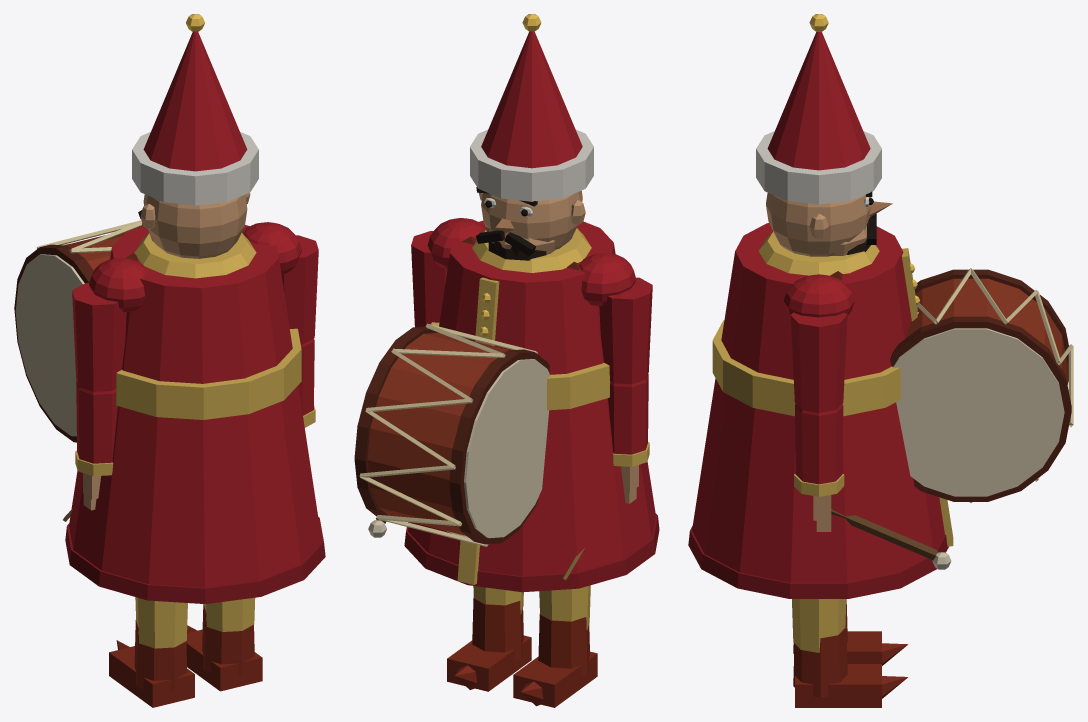
Rendered from mehter.glb.
3 views of the same model, side by side, from view 1: azimuth 30°, elevation 25°; view 2: azimuth 150°, elevation 25°; view 3: azimuth 270°, elevation 25° (orthographic). The views are drawn at different scales.
Parts seen in each view (by area): view 1: govde, bas, kolL, bacakL, bacakR, kolR; view 2: govde, bas, kolL, bacakL, bacakR, kolR; view 3: govde, bas, kolR, bacakR, bacakL.
Boxes of the visible parts, box(x1,y1,x2,y2) form: govde: box(14, 220, 325, 603); bas: box(132, 14, 258, 258); kolL: box(63, 283, 126, 521); bacakL: box(109, 597, 194, 707); bacakR: box(186, 597, 262, 691); kolR: box(281, 235, 318, 427); govde: box(354, 218, 659, 592); bas: box(470, 14, 593, 260); kolL: box(562, 277, 652, 580); bacakL: box(513, 585, 597, 707); bacakR: box(447, 586, 531, 691); kolR: box(368, 231, 447, 537); govde: box(688, 223, 1073, 598); bas: box(756, 14, 892, 256); kolR: box(790, 312, 951, 569); bacakR: box(792, 599, 907, 707); bacakL: box(793, 599, 907, 665).
Bounding box in the file's own units: 0.856 × 2.3 × 1.19.
